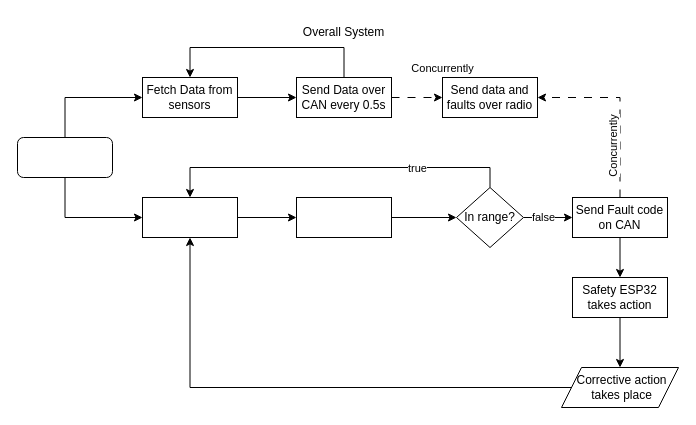
Image size: 696x425. Some labels were removed from this diagram. Here are the shapes that lost their labels. From the top down, the centre of each, then its label:
At (x=64, y=157): "Start".
At (x=190, y=217): "Get data from HV controllers".
At (x=344, y=217): "Check parameters".
